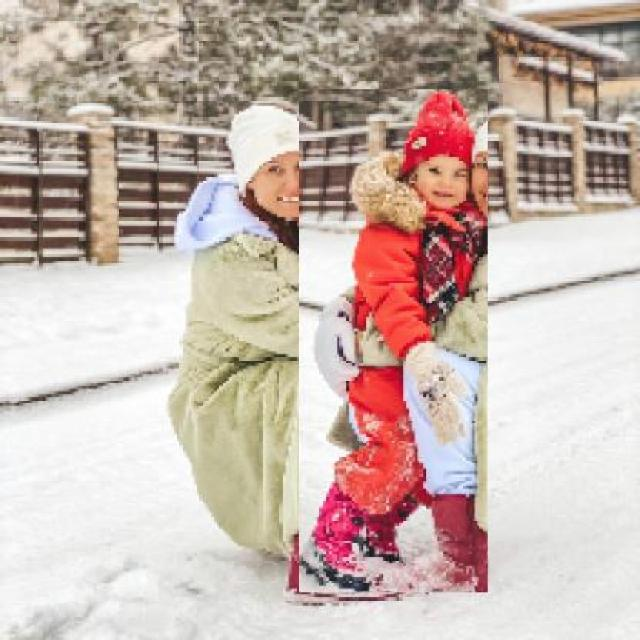child: (298, 89, 488, 594)
